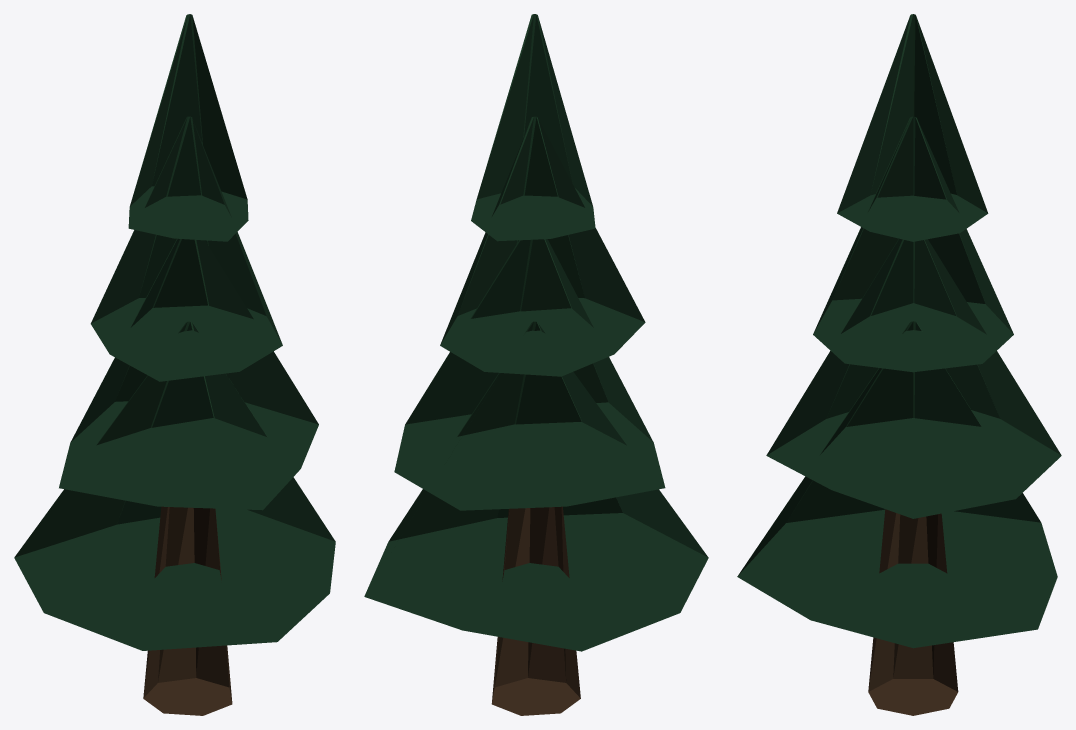
Rendered from pine_small.glb.
3 views of the same model, side by side, from view 1: azimuth 30°, elevation 25°; view 2: azimuth 150°, elevation 25°; view 3: azimuth 270°, elevation 25° (orthographic).
Visible parts, largest first — view 1: pine_small; view 2: pine_small; view 3: pine_small.
Part boxes in pixels (x1,y1,x2,y2): pine_small: (14,14,335,715); pine_small: (364,14,708,715); pine_small: (737,14,1061,715).
Size of the model in its own units: 2.04 by 4.55 by 1.97.
